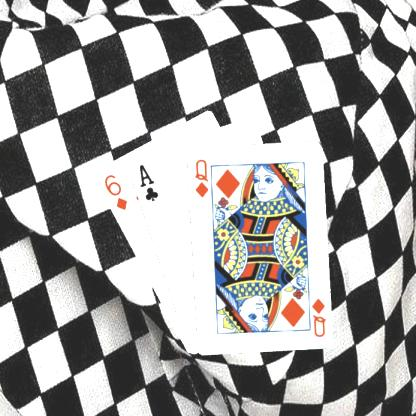6D: (101, 172, 128, 212)
AC: (136, 161, 160, 203)
QD: (192, 156, 210, 199), (308, 295, 326, 338)
